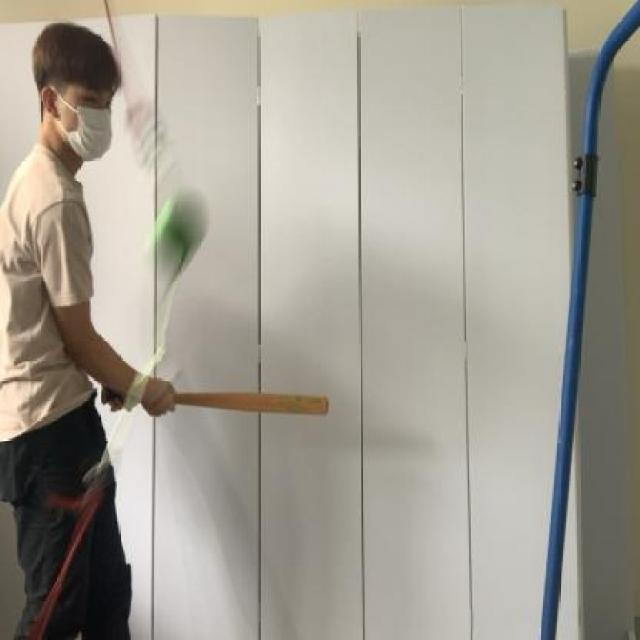baseball: (147, 179, 210, 286)
